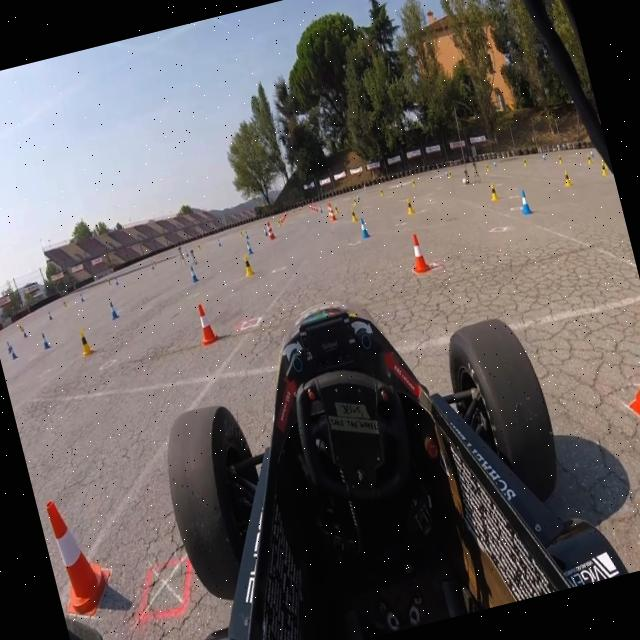blue_cone: (516, 188, 532, 216), (357, 217, 370, 240), (108, 300, 120, 320), (40, 330, 51, 351), (189, 265, 198, 283), (246, 240, 254, 255), (9, 346, 17, 360), (5, 340, 12, 353), (79, 291, 85, 303), (262, 226, 268, 237), (216, 238, 222, 248), (113, 276, 119, 286), (48, 310, 54, 320), (22, 328, 28, 338), (318, 205, 324, 214), (493, 160, 498, 170), (542, 154, 547, 163), (590, 150, 594, 159), (244, 230, 248, 239), (150, 261, 154, 270), (184, 248, 188, 256), (356, 193, 360, 200)
large_orange_cone: (266, 220, 276, 240), (264, 221, 274, 239), (327, 202, 336, 221), (325, 202, 333, 222)
orange_cone: (40, 493, 120, 619), (601, 291, 640, 435), (192, 302, 219, 347), (406, 234, 430, 274), (312, 204, 316, 212), (314, 205, 318, 212), (279, 216, 283, 223), (280, 214, 284, 221)
yellow_cone: (78, 328, 94, 358), (241, 254, 254, 276), (488, 182, 500, 204), (561, 168, 573, 188), (403, 197, 414, 215), (349, 207, 358, 223), (598, 160, 606, 176), (585, 153, 592, 165), (333, 203, 339, 214), (276, 218, 282, 228), (62, 299, 68, 309), (557, 154, 563, 164), (238, 228, 244, 237), (485, 162, 490, 172), (106, 278, 112, 286), (522, 158, 528, 166), (352, 196, 357, 204), (152, 259, 157, 267), (411, 179, 416, 187), (380, 188, 384, 197), (448, 169, 452, 178), (18, 324, 22, 332), (197, 243, 200, 250)
